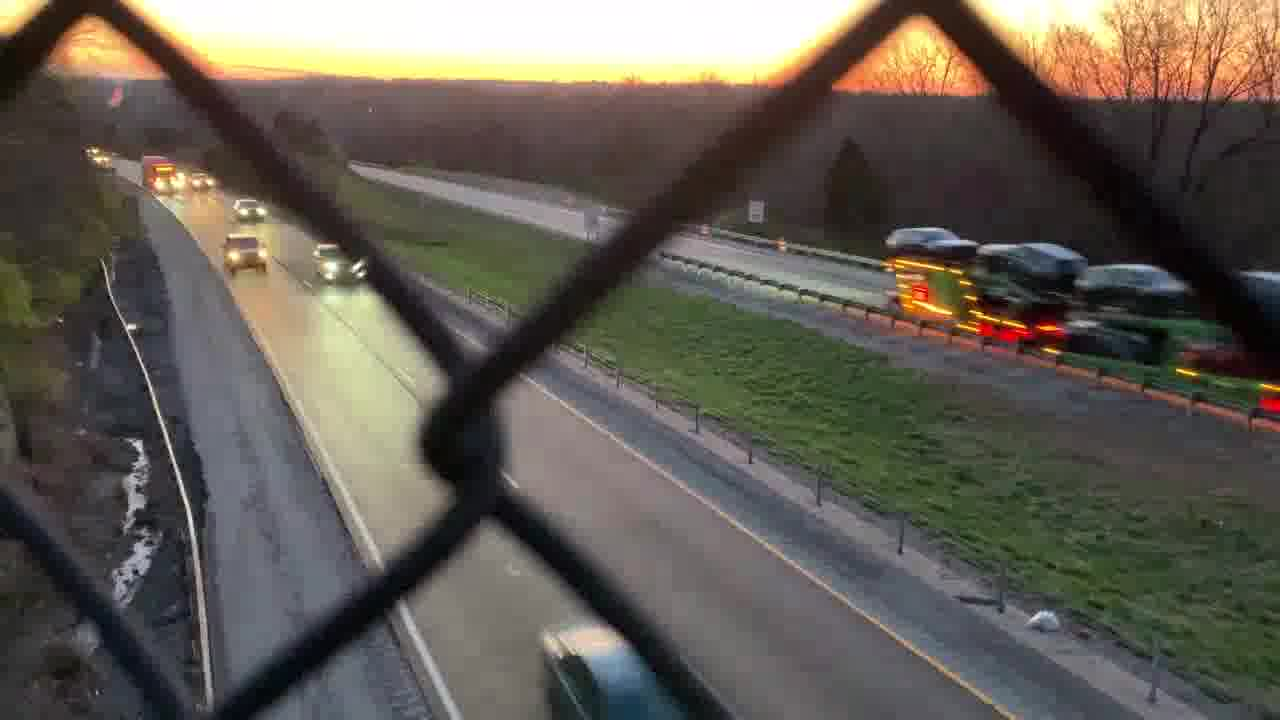heavyTruck: (882, 212, 1280, 415)
